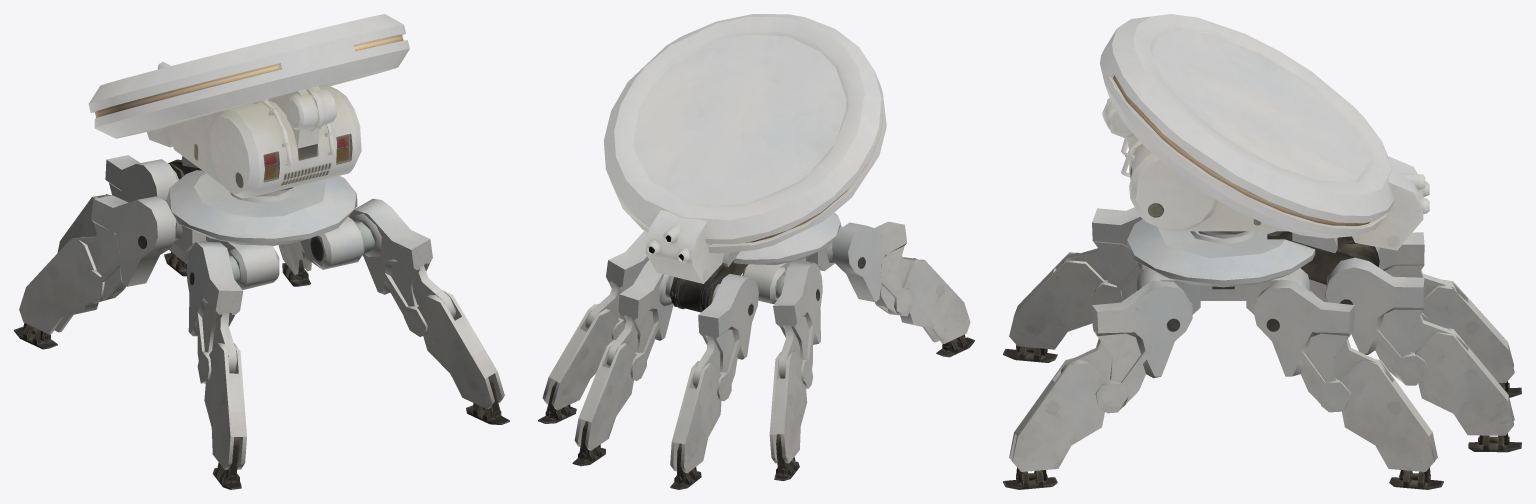
File: kamdo.glb
3 renders of one model, left to right at view 1: azimuth 30°, elevation 25°; view 2: azimuth 150°, elevation 25°; view 3: azimuth 270°, elevation 25°, orthographic. The views are drawn at different scales.
Parts seen in each view (by area): view 1: body.001, head.001, stripe.001; view 2: head.001, body.001; view 3: body.001, head.001, stripe.001.
Boxes of the visible parts, x1,y1,x2,y2 form: body.001: [14, 155, 509, 489]; head.001: [88, 14, 409, 198]; stripe.001: [95, 34, 403, 117]; head.001: [603, 14, 886, 283]; body.001: [538, 212, 974, 489]; body.001: [1003, 207, 1521, 489]; head.001: [1100, 14, 1429, 250]; stripe.001: [1113, 75, 1369, 225].
Bounding box in the file's own units: 2.86 × 3.68 × 4.53.
3 materials, 3 textured.
